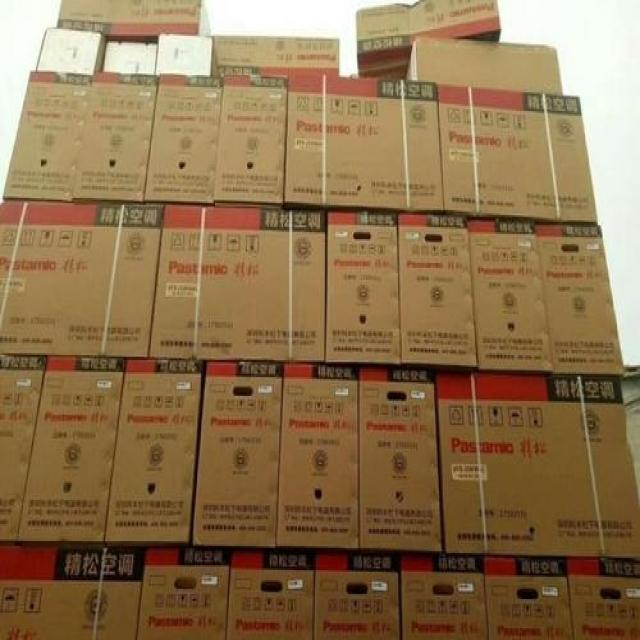box: (148, 203, 325, 361), (0, 200, 165, 358), (435, 367, 561, 556), (437, 83, 598, 224), (284, 73, 443, 213), (17, 355, 126, 542), (104, 358, 204, 542), (545, 373, 639, 559), (193, 360, 283, 547), (358, 363, 442, 552), (276, 361, 360, 549), (0, 541, 147, 638), (535, 220, 625, 375), (467, 216, 554, 370), (398, 212, 477, 369), (2, 70, 92, 201), (326, 210, 401, 365), (356, 0, 501, 80), (71, 72, 158, 202), (145, 74, 223, 204), (214, 76, 288, 208), (137, 541, 232, 638), (405, 38, 563, 95), (0, 354, 47, 540), (227, 546, 316, 638), (312, 548, 399, 638), (401, 551, 488, 638), (484, 555, 572, 638), (57, 0, 212, 42), (565, 556, 639, 638), (210, 36, 339, 76), (36, 27, 107, 75), (155, 32, 213, 76), (103, 40, 158, 75)
